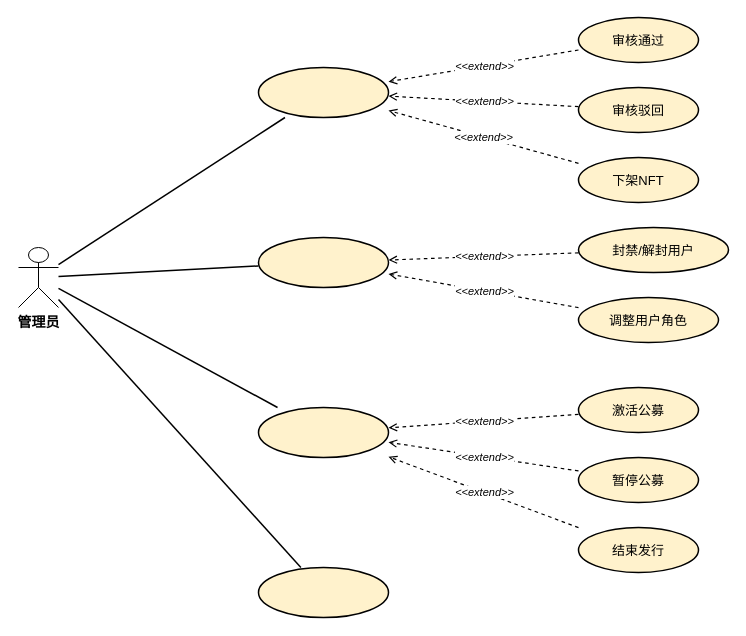
The diagram is 746 pixels wide and 636 high, and some of its shapes have lost their labels. The shapes that lost their labels are listed below. From the top down, each one's centre as x and y in pixels, then its label:
At point 323,92: "NFT审核".
At point 323,262: "用户管理".
At point 323,432: "代币管理".
At point 323,592: "数据统计".
